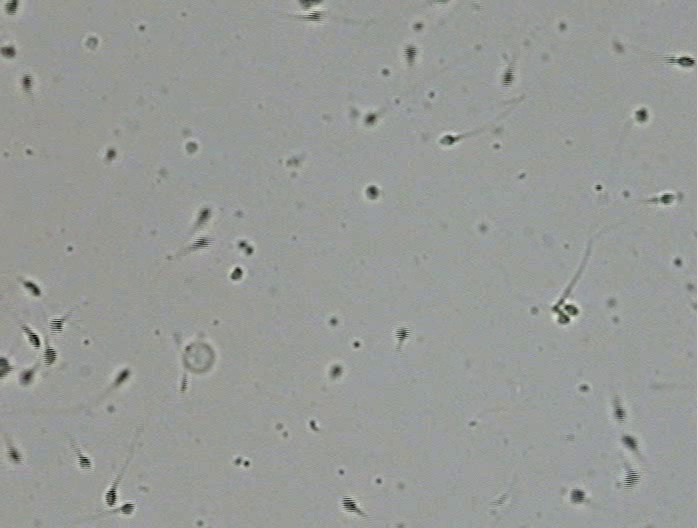Impurity: (182, 341, 215, 373), (85, 36, 98, 49)
S: (667, 55, 696, 68), (623, 468, 640, 488), (342, 496, 360, 513), (25, 329, 40, 349), (43, 347, 57, 368), (1, 355, 13, 379), (23, 281, 42, 296), (621, 434, 638, 450), (7, 448, 23, 464), (501, 68, 514, 87), (105, 487, 117, 507), (569, 488, 585, 503), (77, 454, 91, 471), (197, 207, 210, 225), (4, 1, 18, 17), (1, 45, 17, 59), (49, 319, 63, 335), (115, 369, 129, 385), (192, 237, 210, 249), (20, 369, 34, 384), (396, 326, 410, 341), (635, 107, 648, 123), (612, 406, 625, 422), (21, 74, 33, 91), (404, 46, 417, 61), (298, 1, 322, 9), (230, 266, 243, 280), (660, 193, 675, 205), (440, 135, 456, 146), (306, 11, 322, 22), (364, 113, 378, 125), (564, 304, 579, 315), (186, 142, 199, 154), (367, 185, 379, 198), (331, 365, 342, 378), (122, 503, 134, 514), (557, 314, 570, 324), (106, 149, 117, 160)
